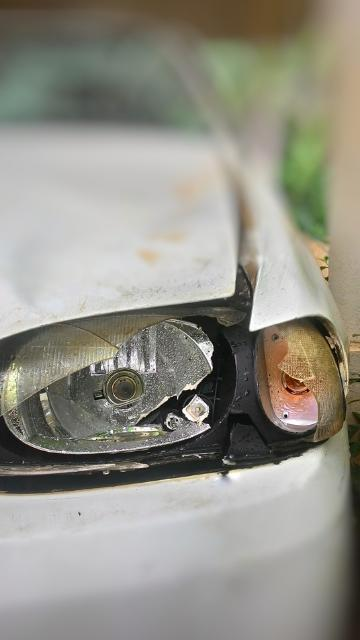Light: (6, 305, 328, 473)
